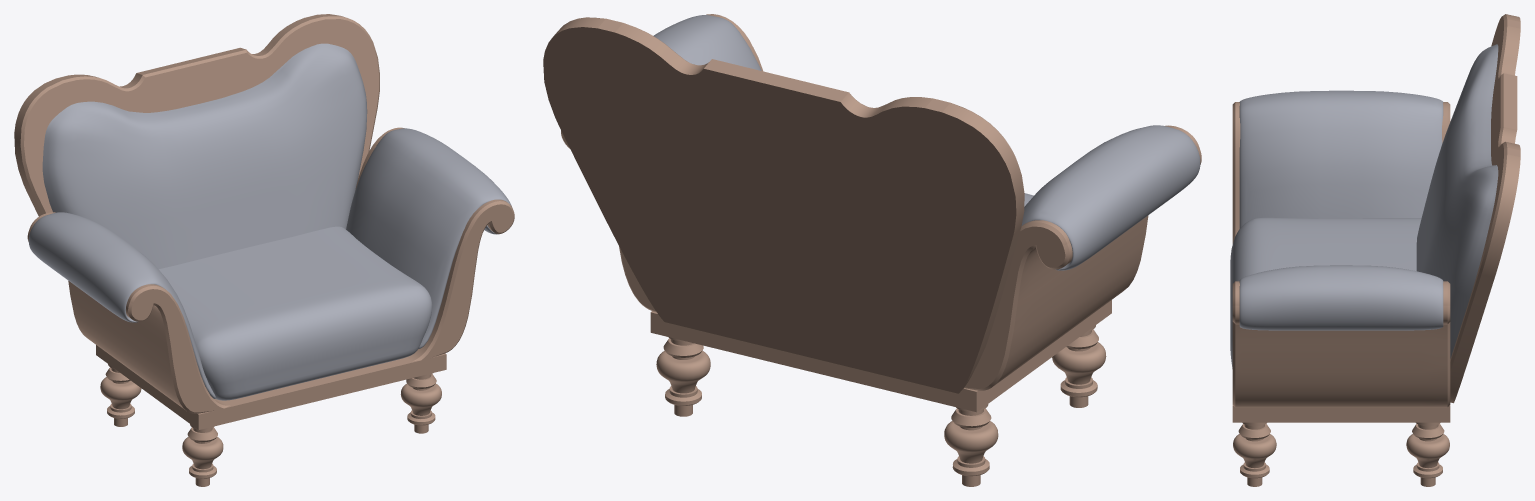
The model's file is 885_sofa_1seat.glb.
3 views of the same model, side by side, from view 1: azimuth 30°, elevation 25°; view 2: azimuth 150°, elevation 25°; view 3: azimuth 270°, elevation 25° (orthographic). The views are drawn at different scales.
Parts seen in each view (by area): view 1: Body; view 2: Body; view 3: Body.
Part boxes in pixels (left/top/right/bottom): Body: left=14, top=14, right=514, bottom=486; Body: left=543, top=14, right=1201, bottom=486; Body: left=1230, top=14, right=1520, bottom=486.
Size of the model in its own units: 1.09 by 0.8465 by 0.6542.
